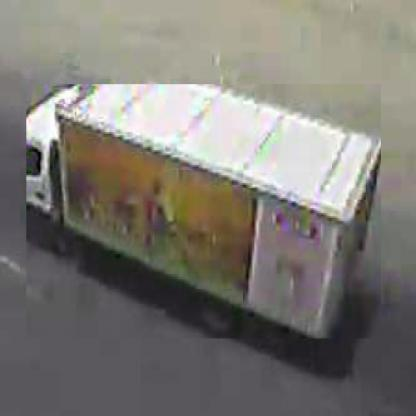truck: (27, 85, 383, 341)
